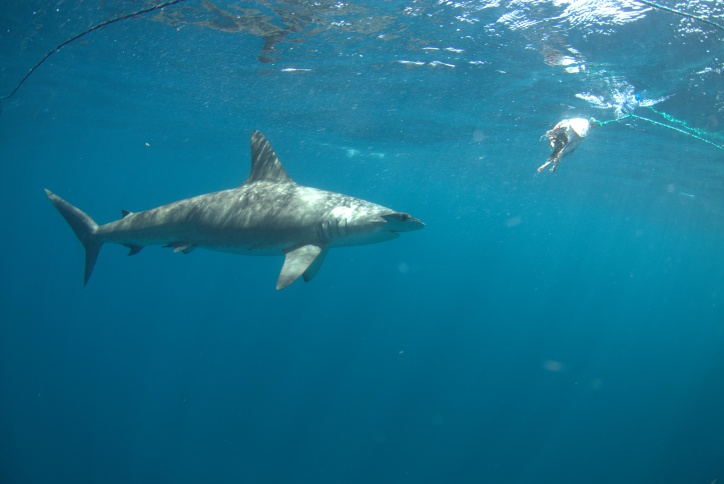Hammer: (45, 120, 434, 304)
